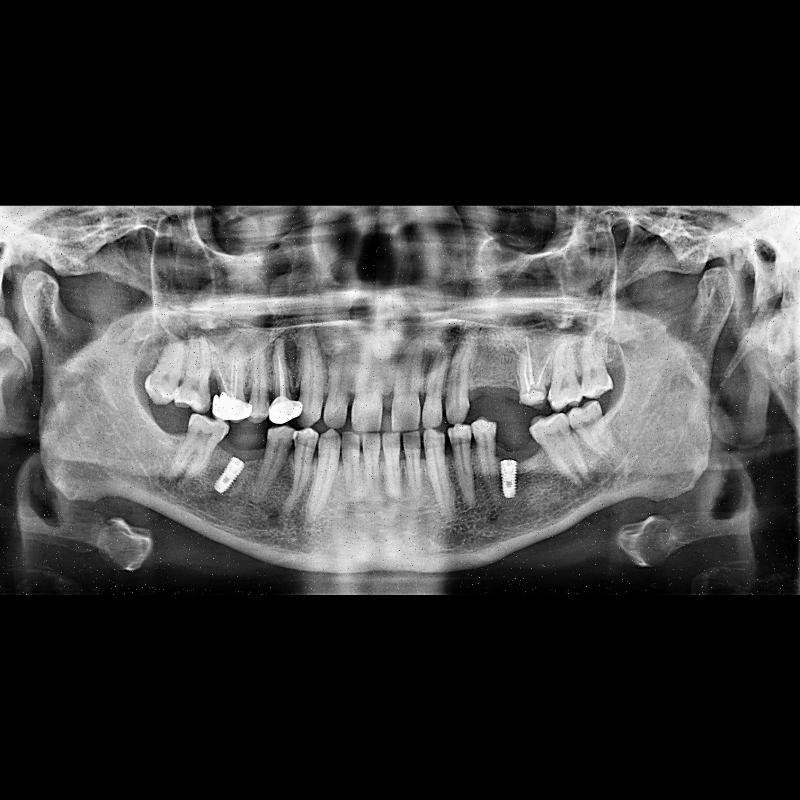osstem: (214, 451, 244, 499), (499, 458, 521, 500)
